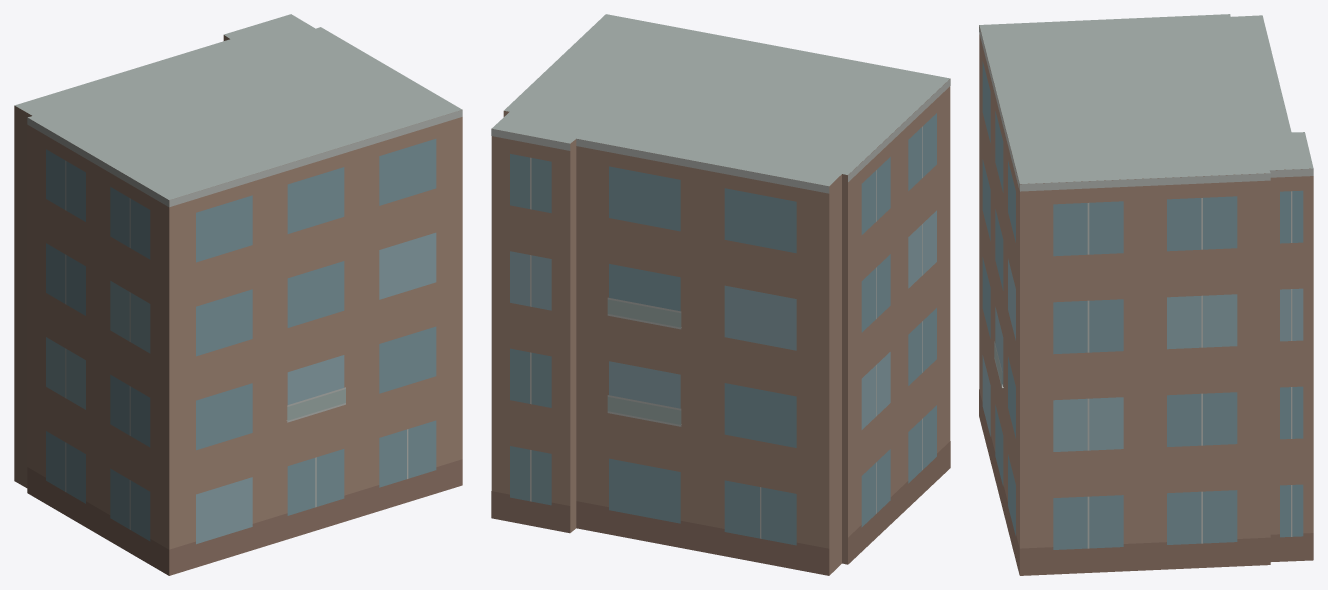
Rendered from survey-upis-33014082.glb.
The picture shows the model from 3 angles, left to right: view 1: azimuth 30°, elevation 25°; view 2: azimuth 150°, elevation 25°; view 3: azimuth 270°, elevation 25°; orthographic projection. The views are drawn at different scales.
Parts seen in each view (by area): view 1: survey-upis-33014082.tmp; view 2: survey-upis-33014082.tmp; view 3: survey-upis-33014082.tmp.
Boxes of the visible parts, <box> form: survey-upis-33014082.tmp: <box>14,14,462,575</box>; survey-upis-33014082.tmp: <box>491,14,950,575</box>; survey-upis-33014082.tmp: <box>979,14,1313,575</box>.
Size of the model in its own units: 12.02 by 12.9 by 9.99.
